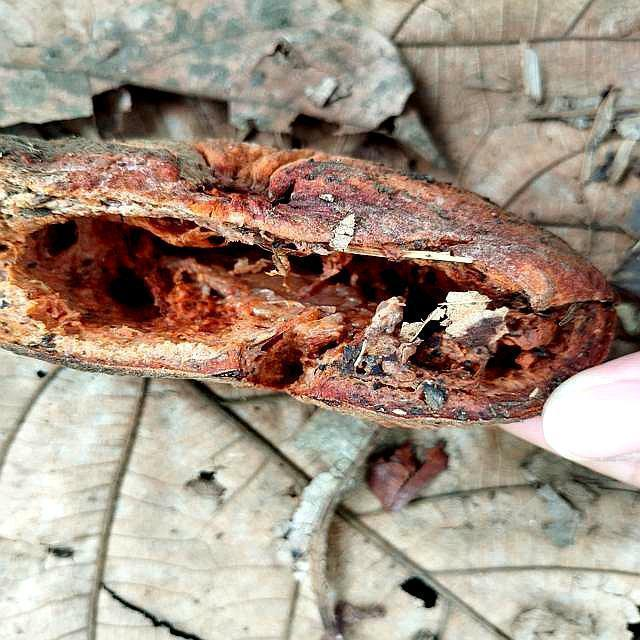Biodegradable: (1, 131, 613, 433)
